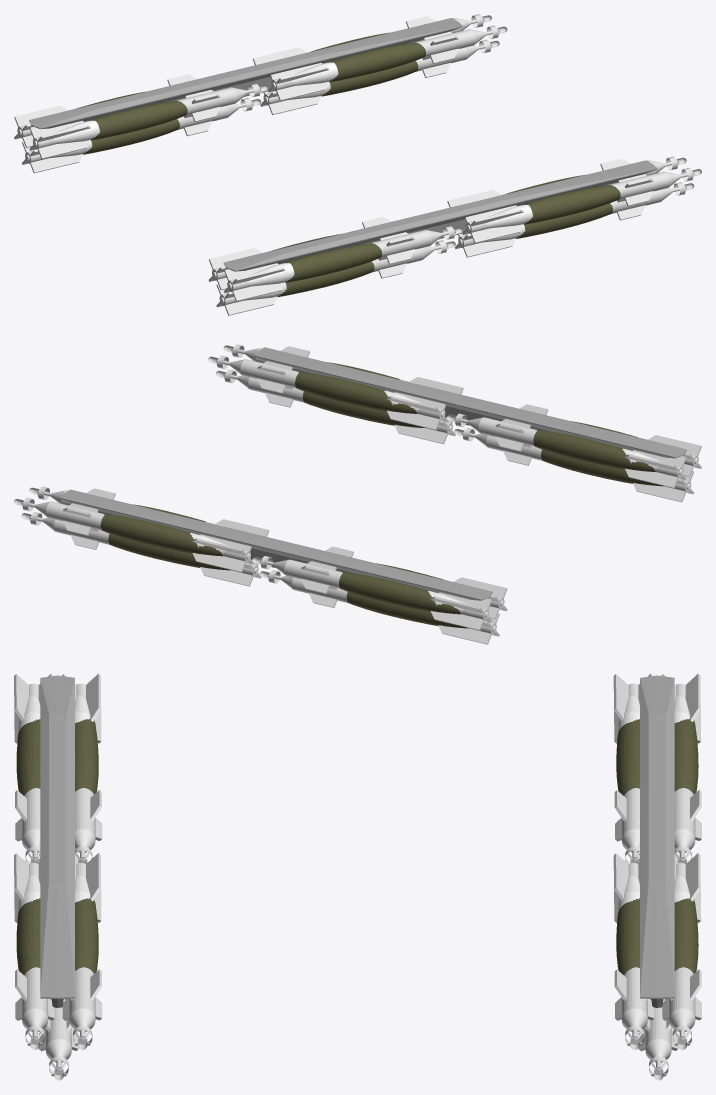
The model's file is f15egbu12212.glb.
The picture shows the model from 3 angles, top to bottom: view 1: azimuth 30°, elevation 25°; view 2: azimuth 150°, elevation 25°; view 3: azimuth 270°, elevation 25°; orthographic projection. The views are drawn at different scales.
Parts seen in each view (by area): view 1: 立方体.021, 立方体.012, 円柱.001, 円柱.012, 円柱.017, 円柱.002, 円柱.014, 円柱.011, 円柱.016, 円柱.019, 円柱.015, 円柱.018 (+2 smaller); view 2: 立方体.021, 立方体.012, 円柱.010, 円柱.013, 円柱.015, 円柱.018, 円柱.011, 円柱.014, 円柱.016, 円柱.019, 円柱.017, 円柱.002 (+2 smaller); view 3: 立方体.021, 立方体.012, 円柱.018, 円柱.015, 円柱.002, 円柱.017, 円柱.013, 円柱.010, 円柱.001, 円柱.012, 円柱.019, 円柱.016.
Boxes of the visible parts, left/top/right/bottom form: 立方体.021: left=29, top=18, right=462, bottom=129; 立方体.012: left=223, top=160, right=657, bottom=271; 円柱.001: left=224, top=226, right=463, bottom=301; 円柱.012: left=29, top=83, right=268, bottom=159; 円柱.017: left=268, top=25, right=507, bottom=100; 円柱.002: left=462, top=168, right=701, bottom=243; 円柱.014: left=22, top=98, right=261, bottom=173; 円柱.011: left=216, top=240, right=455, bottom=315; 円柱.016: left=455, top=182, right=694, bottom=257; 円柱.019: left=260, top=39, right=499, bottom=114; 円柱.015: left=447, top=156, right=686, bottom=207; 円柱.018: left=252, top=14, right=491, bottom=65; 立方体.021: left=59, top=489, right=492, bottom=600; 立方体.012: left=253, top=347, right=686, bottom=458; 円柱.010: left=446, top=413, right=686, bottom=488; 円柱.013: left=252, top=556, right=491, bottom=630; 円柱.015: left=208, top=355, right=448, bottom=429; 円柱.018: left=14, top=498, right=253, bottom=572; 円柱.011: left=454, top=427, right=694, bottom=502; 円柱.014: left=260, top=570, right=499, bottom=644; 円柱.016: left=216, top=369, right=455, bottom=444; 円柱.019: left=21, top=512, right=261, bottom=586; 円柱.017: left=29, top=486, right=269, bottom=536; 円柱.002: left=223, top=344, right=463, bottom=394; 立方体.021: left=640, top=675, right=674, bottom=1007; 立方体.012: left=40, top=675, right=74, bottom=1007; 円柱.018: left=662, top=853, right=701, bottom=1049; 円柱.015: left=62, top=853, right=102, bottom=1049; 円柱.002: left=14, top=853, right=54, bottom=1049; 円柱.017: left=613, top=853, right=654, bottom=1049; 円柱.013: left=661, top=673, right=701, bottom=863; 円柱.010: left=62, top=673, right=102, bottom=863; 円柱.001: left=14, top=673, right=53, bottom=863; 円柱.012: left=613, top=673, right=652, bottom=864; 円柱.019: left=638, top=998, right=678, bottom=1080; 円柱.016: left=39, top=998, right=78, bottom=1080.
Size of the model in its own units: 7.44 by 0.699 by 6.08.
Materials: 4 (1 with a texture image).
